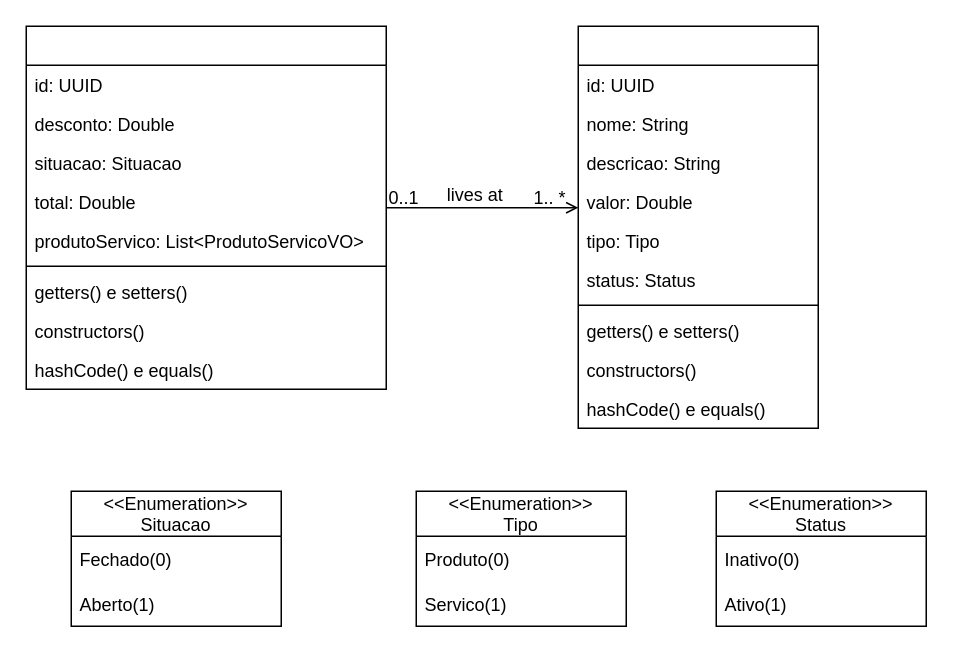
This 953x653 diagram has some shape labels left out. Each missing label, with the box of its shape:
PedidoVO: (25, 25, 386, 389)
ProdutoServicoVO: (577, 25, 818, 428)
